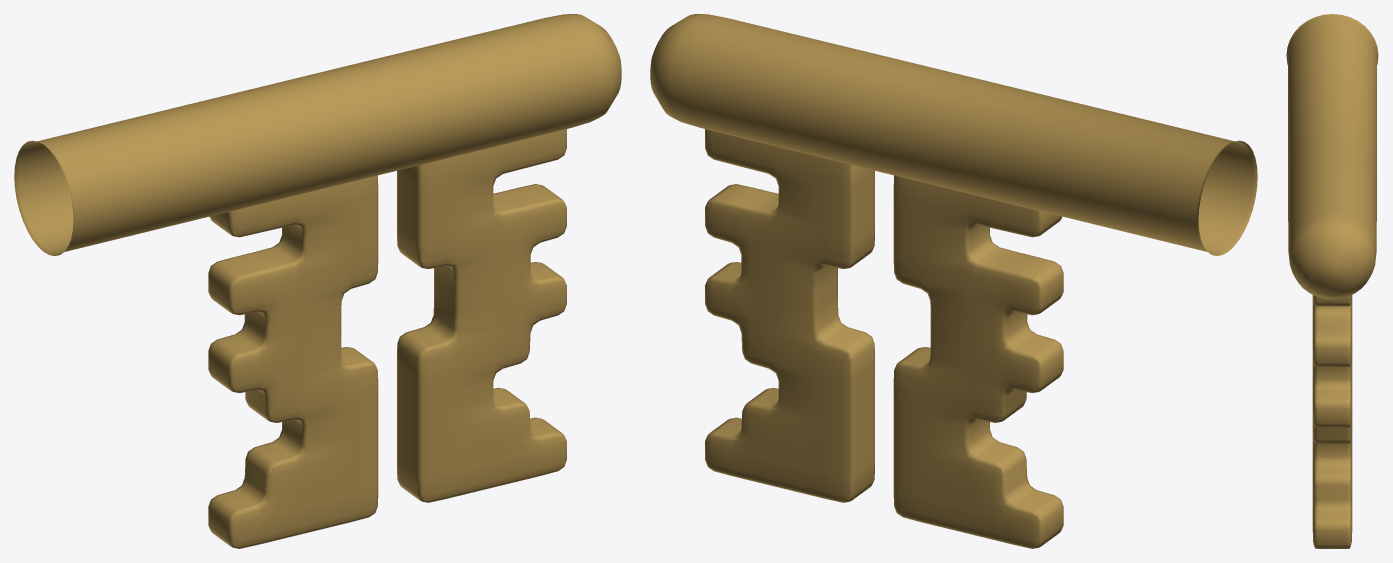
The model's file is Key3.fbx.
3 views of the same model, side by side, from view 1: azimuth 30°, elevation 25°; view 2: azimuth 150°, elevation 25°; view 3: azimuth 270°, elevation 25° (orthographic). The views are drawn at different scales.
Visible parts, largest first — view 1: Mesh; view 2: Mesh; view 3: Mesh.
Boxes of the visible parts, x1=… form: Mesh: x1=14, y1=14, x2=621, y2=548; Mesh: x1=650, y1=14, x2=1257, y2=548; Mesh: x1=1286, y1=14, x2=1378, y2=548.
Bounding box in the file's own units: 0.1464 × 0.1082 × 0.0262.
